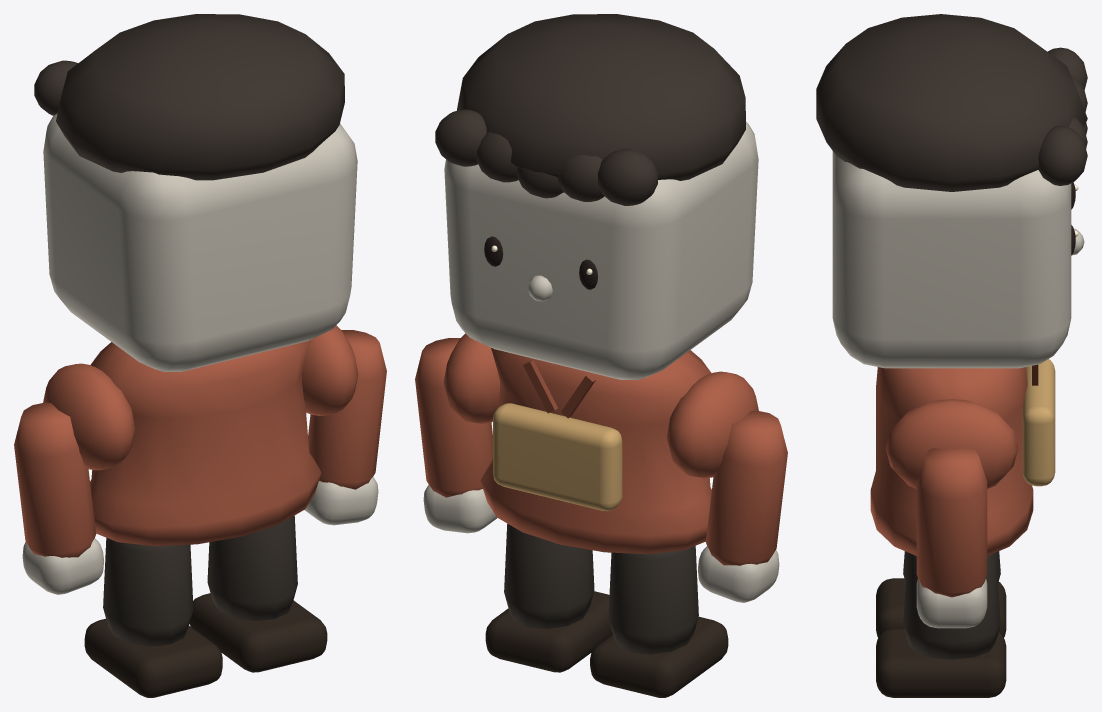
Rendered from baseline-current.glb.
The picture shows the model from 3 angles, left to right: view 1: azimuth 30°, elevation 25°; view 2: azimuth 150°, elevation 25°; view 3: azimuth 270°, elevation 25°; orthographic projection.
Visible parts, largest first — view 1: baseline_head0, baseline_torso0, baseline_hair_cap0, baseline_arm-1, baseline_leg0, baseline_leg1, baseline_arm1, baseline_foot0, baseline_foot1, baseline_hand-1, baseline_hand1; view 2: baseline_head0, baseline_hair_cap0, baseline_torso0, baseline_belt0, baseline_arm-1, baseline_leg0, baseline_leg1, baseline_arm1, baseline_foot0, baseline_foot1, baseline_hand-1, baseline_hand1 (+1 smaller); view 3: baseline_head0, baseline_hair_cap0, baseline_torso0, baseline_arm1, baseline_foot1, baseline_leg1, baseline_belt0, baseline_hand1, baseline_foot0.
Boxes of the visible parts, box(x1,y1,x2,y2) form: baseline_head0: box(43, 113, 357, 371); baseline_torso0: box(43, 325, 358, 546); baseline_hair_cap0: box(34, 14, 344, 180); baseline_arm-1: box(14, 402, 96, 557); baseline_leg0: box(103, 538, 193, 646); baseline_leg1: box(207, 515, 297, 620); baseline_arm1: box(308, 330, 386, 489); baseline_foot0: box(84, 618, 222, 697); baseline_foot1: box(189, 593, 327, 672); baseline_hand-1: box(22, 538, 103, 594); baseline_hand1: box(304, 477, 378, 525); baseline_head0: box(444, 122, 758, 379); baseline_hair_cap0: box(435, 14, 745, 205); baseline_torso0: box(443, 333, 758, 554); baseline_belt0: box(493, 403, 622, 511); baseline_arm-1: box(705, 410, 787, 565); baseline_leg0: box(608, 546, 698, 654); baseline_leg1: box(504, 523, 594, 628); baseline_arm1: box(415, 338, 492, 497); baseline_foot0: box(590, 616, 728, 697); baseline_foot1: box(485, 591, 612, 672); baseline_hand-1: box(698, 546, 779, 602); baseline_hand1: box(423, 485, 497, 533); baseline_head0: box(832, 151, 1071, 368); baseline_hair_cap0: box(816, 14, 1087, 191); baseline_torso0: box(870, 367, 1033, 555); baseline_arm1: box(916, 448, 987, 597); baseline_foot1: box(876, 628, 1006, 697); baseline_leg1: box(903, 552, 1000, 659); baseline_belt0: box(1022, 359, 1055, 486); baseline_hand1: box(916, 579, 987, 628); baseline_foot0: box(876, 578, 1006, 637).
Bounding box in the file's own units: 0.7655 × 1.25 × 0.5.
